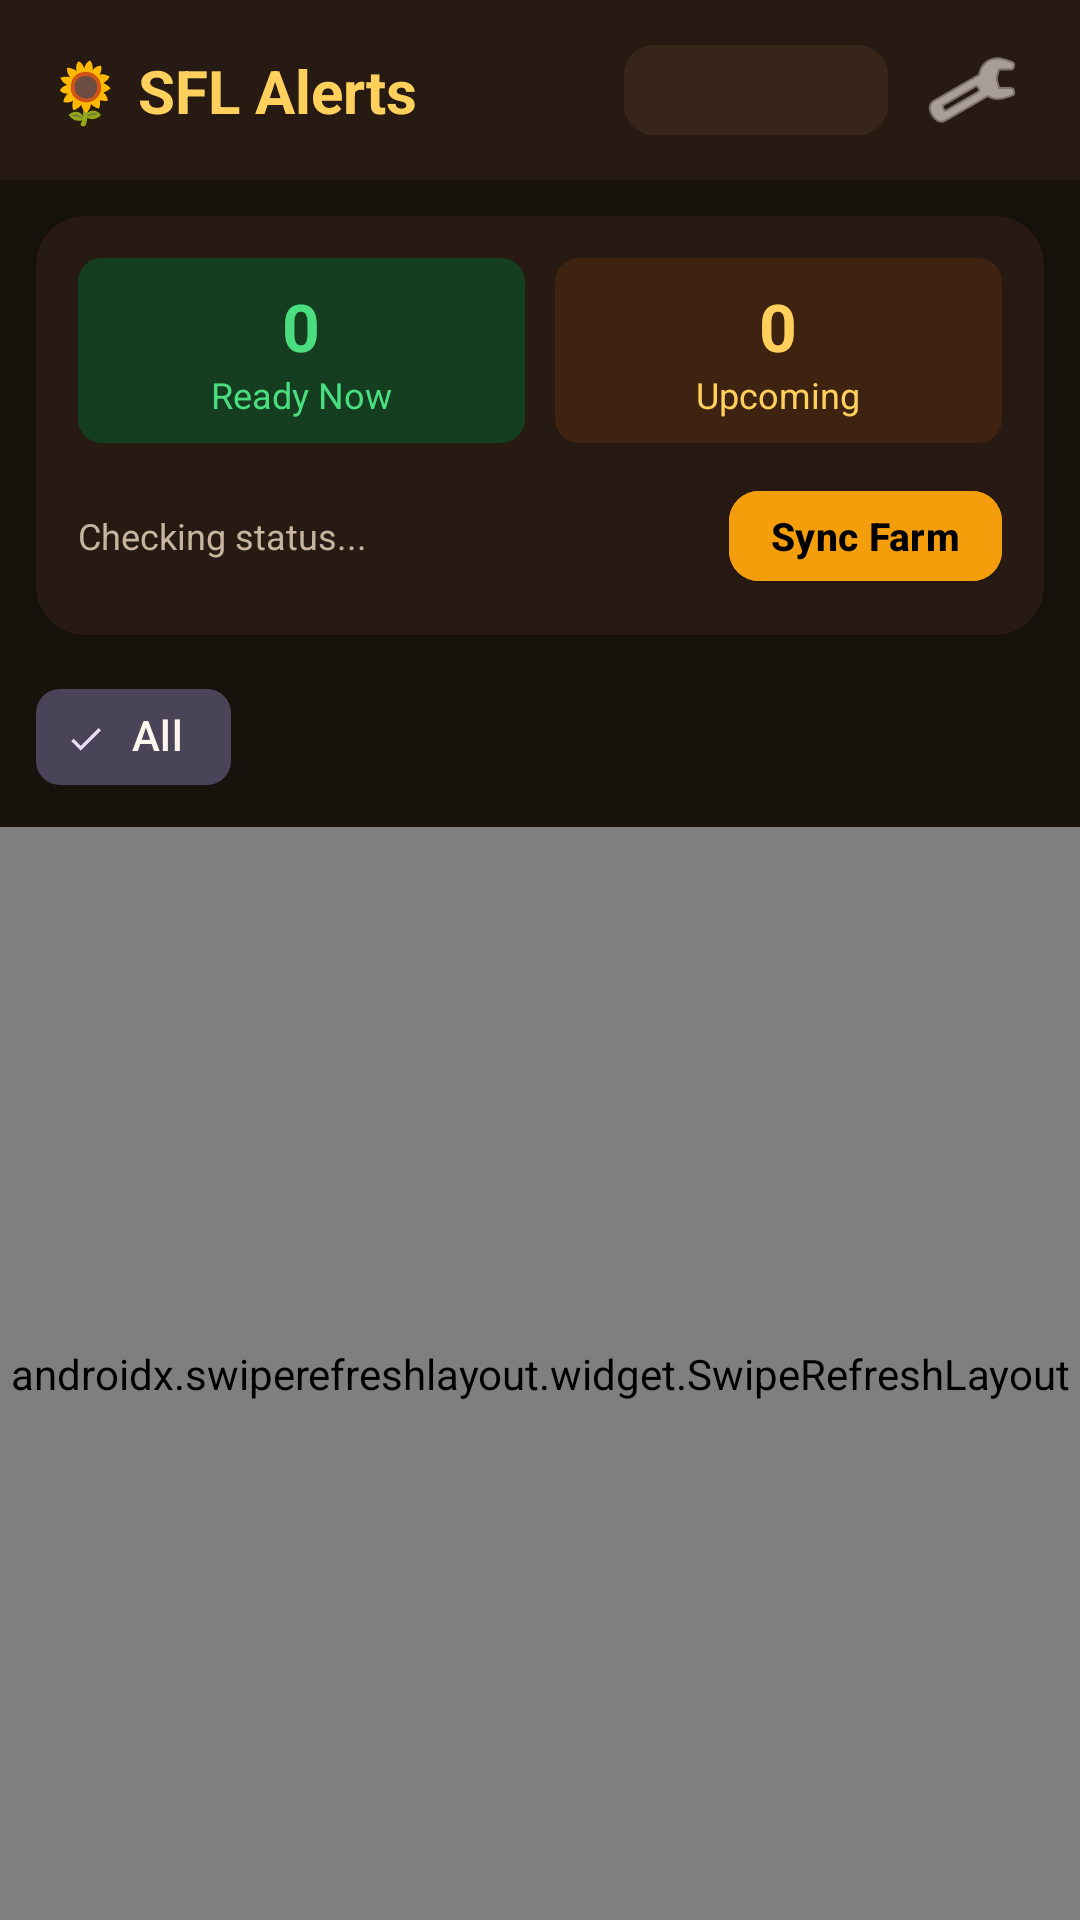

Icon click points for this 1080*1920 phone screenshot, format [x,y]:
Settings: [972,90]
